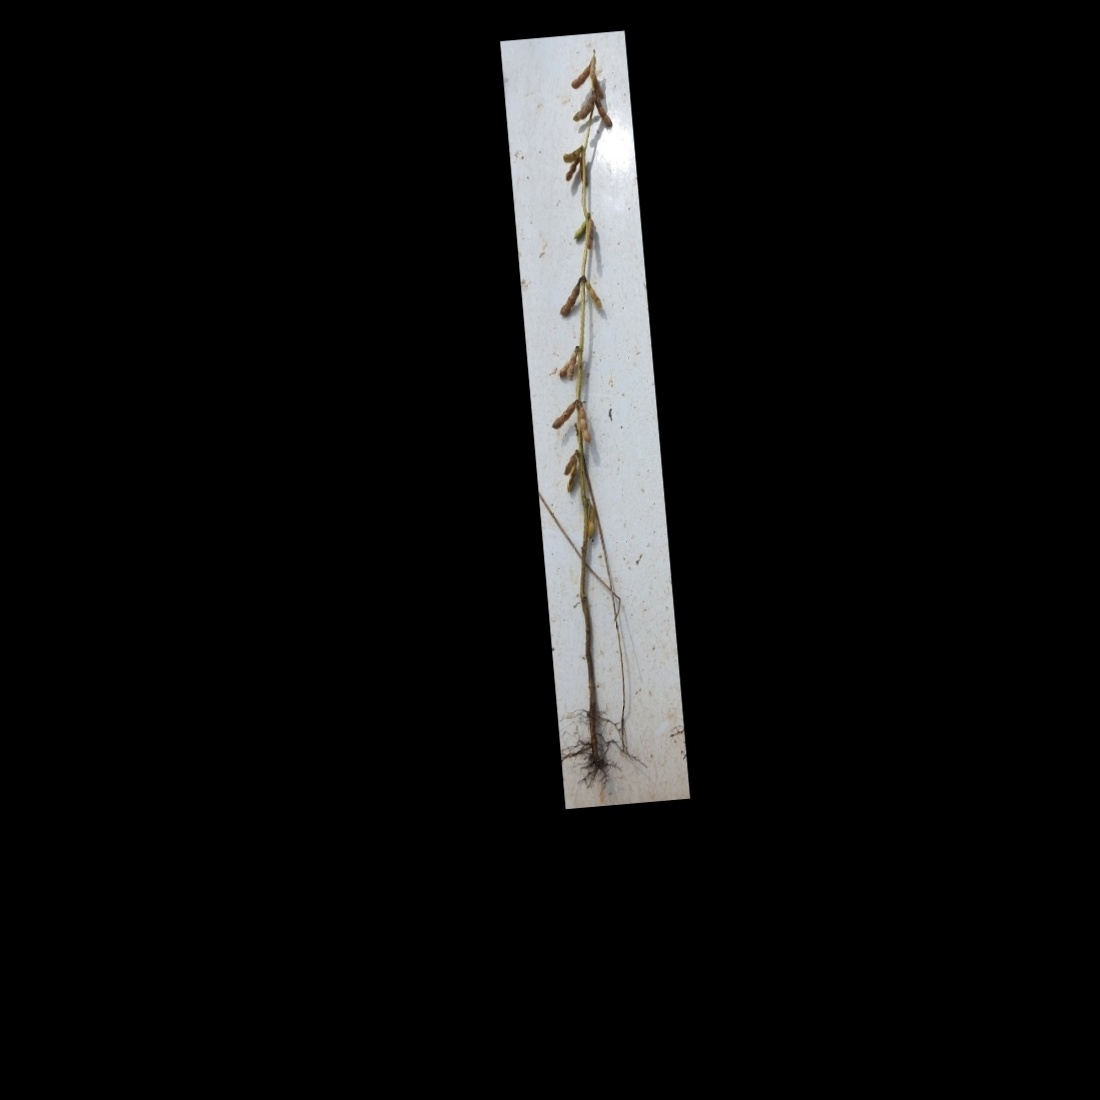pod: (555, 277, 584, 319), (548, 399, 578, 432), (579, 272, 602, 310), (573, 400, 592, 444), (594, 97, 614, 130), (568, 62, 591, 89), (585, 500, 598, 540), (562, 158, 581, 184), (570, 215, 589, 239), (583, 218, 595, 251)
soy: (505, 46, 678, 784)
